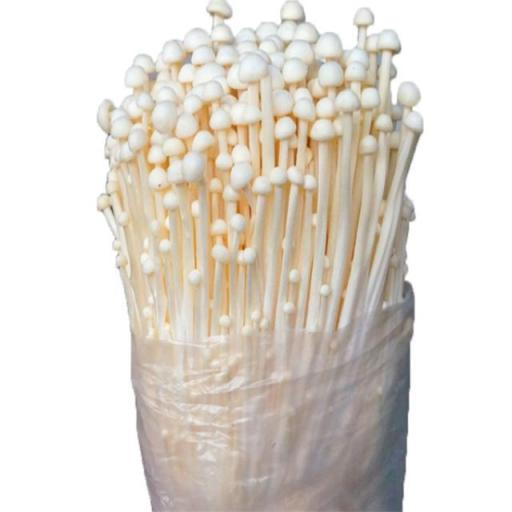Enoki Mushroom: (96, 2, 422, 354)
